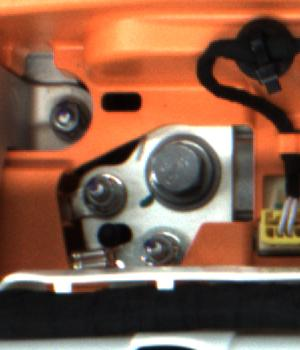nut_b: (142, 131, 226, 209)
screw_s: (77, 166, 117, 210), (43, 96, 84, 137), (136, 229, 178, 266)
